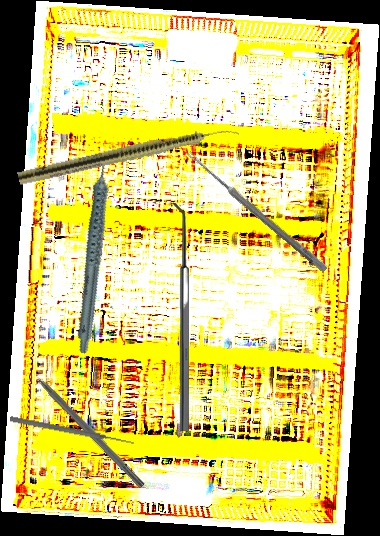Handpiece: (38, 147, 157, 356), (16, 120, 241, 189)
Hook Surgical: (20, 359, 147, 489)
Pusher: (9, 415, 135, 447)
Spatula Surgical: (171, 203, 189, 431)
Surgical Spoon: (185, 150, 329, 273)
